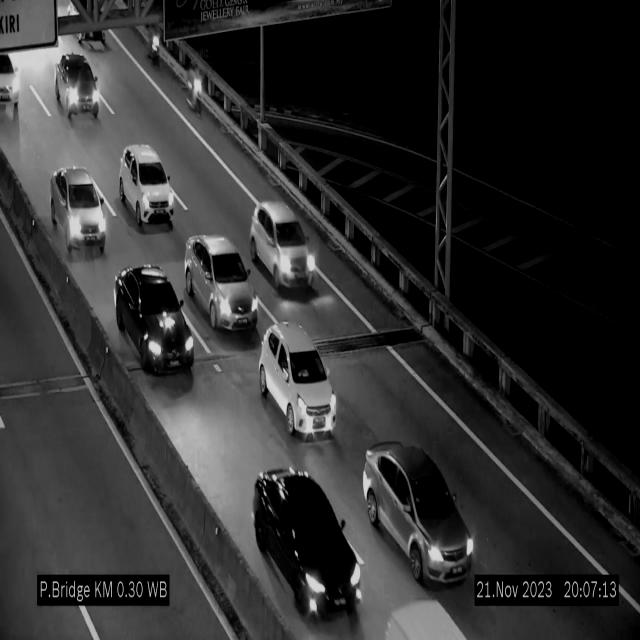Car: (250, 458, 364, 620), (362, 442, 474, 586), (260, 323, 337, 436), (115, 265, 194, 375), (187, 234, 258, 331), (250, 201, 316, 294), (50, 169, 112, 259), (119, 144, 175, 228), (54, 46, 103, 132)
Motorcycle: (183, 63, 205, 118), (146, 25, 164, 71)
